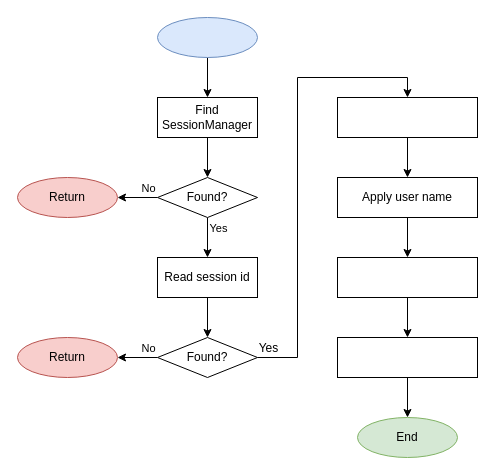
Some shapes in this 495 by 475 pixel diagram are drawn without their labels. The shapes that lost their labels are listed below. From the top down, each one's centre as x and y in pixels, then its label:
(x=207, y=37): Start
(x=407, y=117): Start session using SessionManager
(x=407, y=277): Apply avatar mesh url
(x=407, y=357): Apply avatar image url
